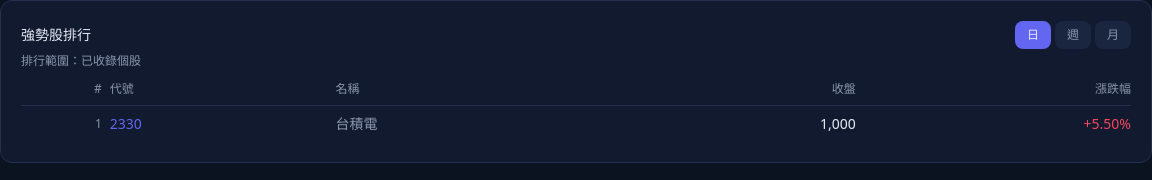
Test: MoversRanking › 空 tab → 顯示佔位
The width and height of the screenshot is (1152, 180).
What coordinates should you click on to do the following:
click the button "月"
I would click on:
 (1113, 35)
Its box is [1095, 21, 1131, 49].
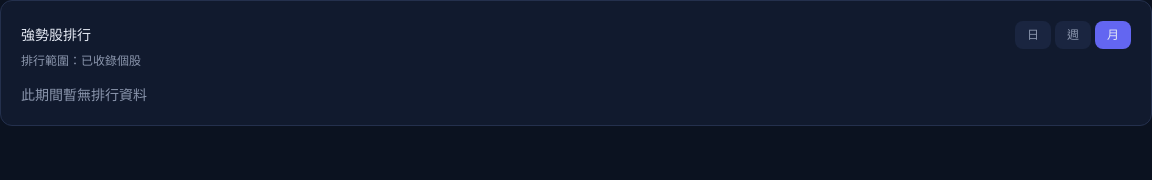
Result: the text "此期間暫無排行資料" is shown at [21, 85, 147, 104]
